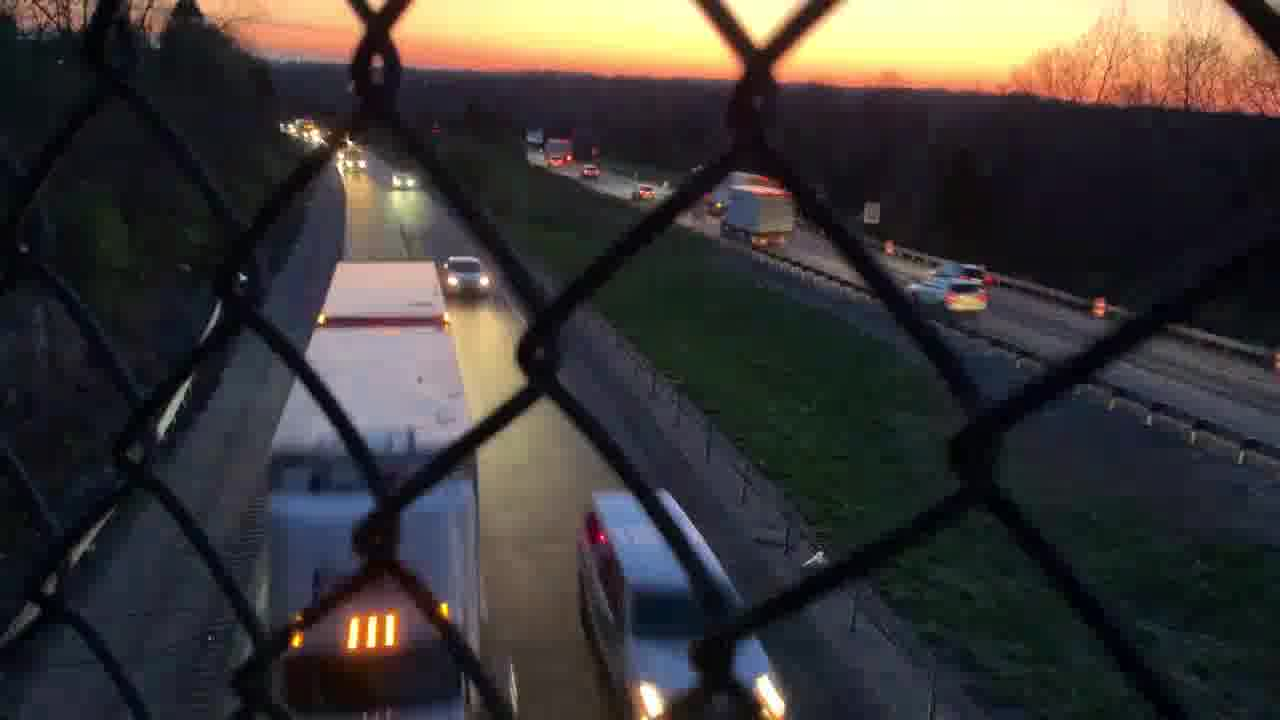heavyTruck: (273, 258, 469, 713), (722, 183, 794, 251)
largeCar: (566, 497, 788, 720), (900, 272, 992, 322)
smallCar: (439, 253, 491, 302)
